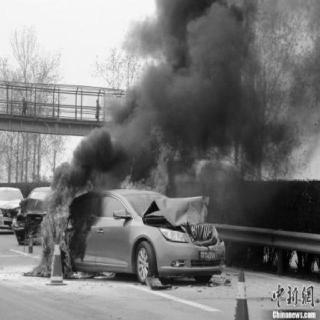Fire: (71, 268, 120, 284)
other: (272, 280, 314, 312)
